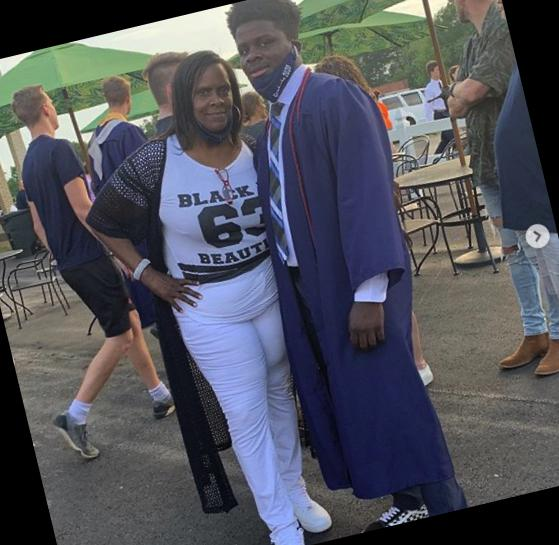mask_weared_incorrect: (232, 25, 306, 97), (187, 73, 241, 145)
without_mask: (43, 95, 61, 128)
